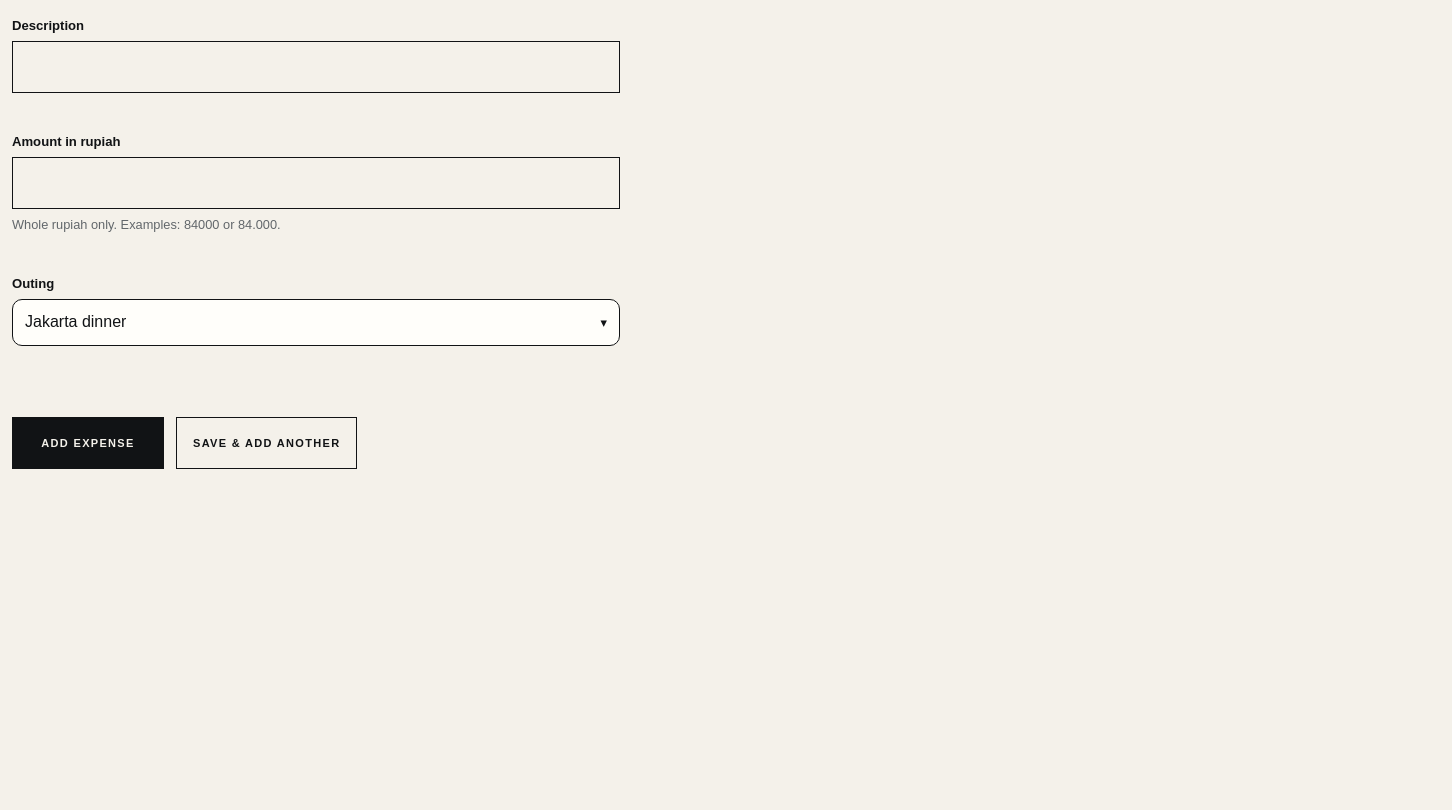
ExpenseForm › clears fields, keeps the outing, refreshes, focuses Description, and announces continuation once
The image size is (1452, 810).
Step 1. Type "Dinner" into the field labelled "Description" → [316, 67], box top-left (12, 41), bottom-right (620, 93)
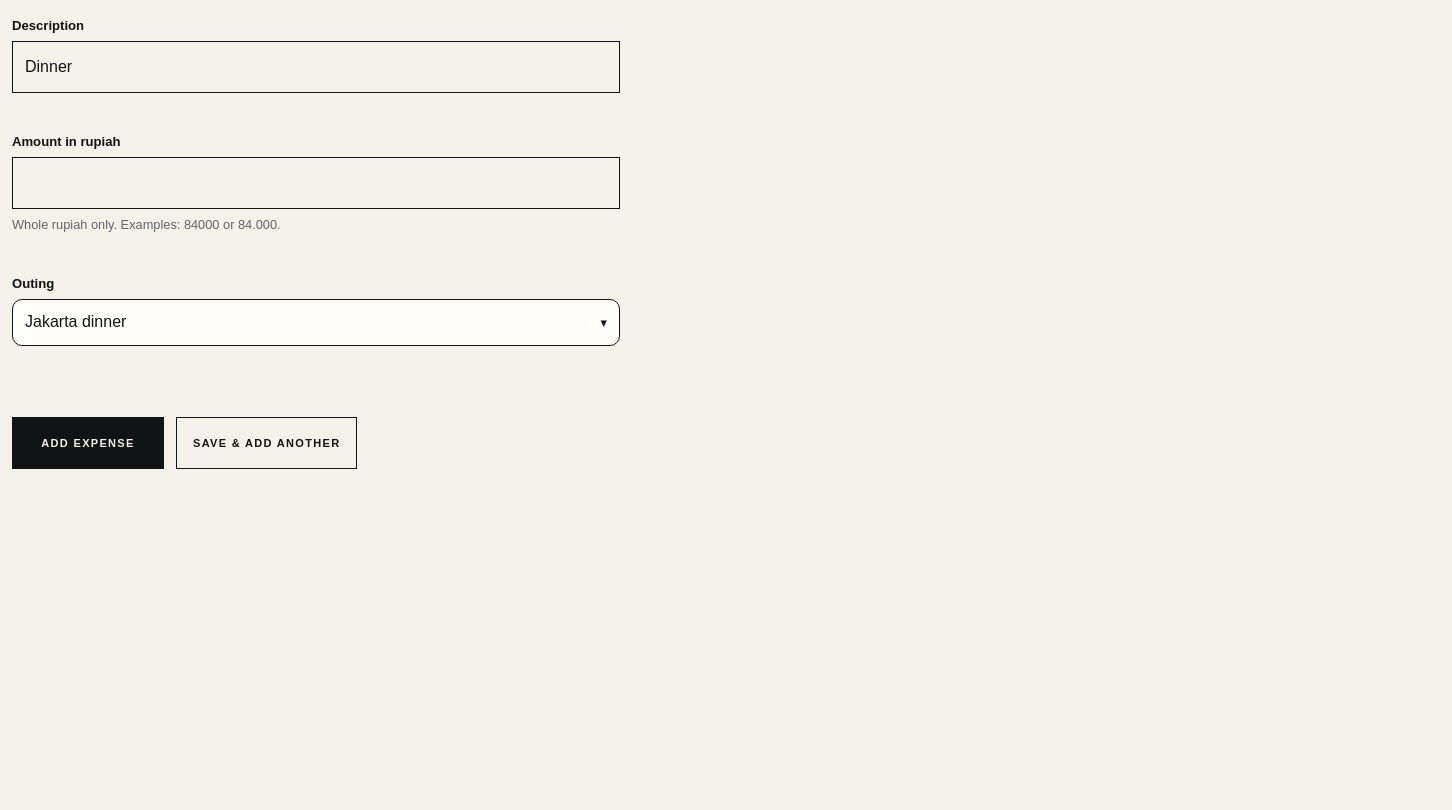
Step 2. Type "84000" into the field labelled "Amount in rupiah" → [316, 183], box top-left (12, 157), bottom-right (620, 209)
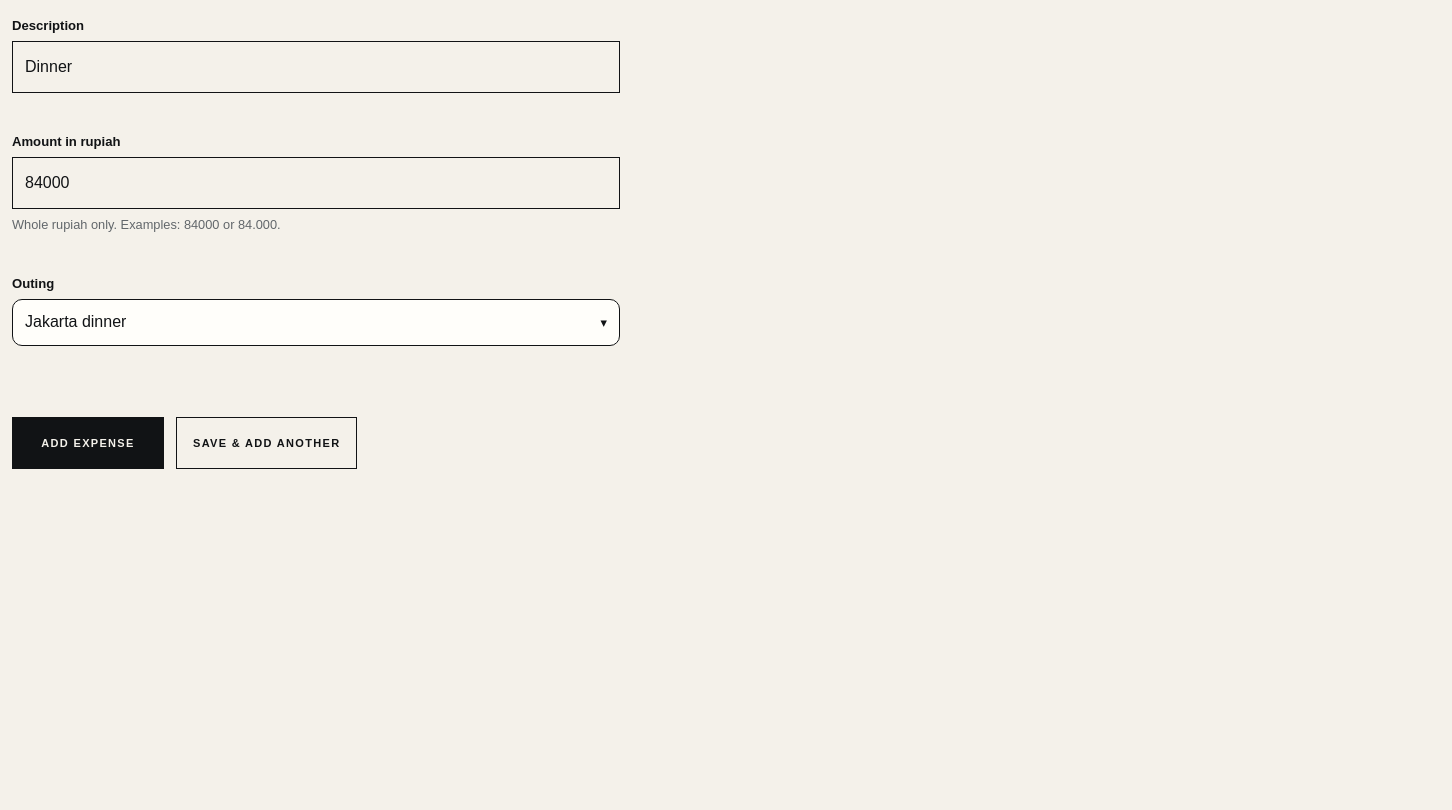
Step 3. Click the button "Save & add another" → [267, 443], box top-left (176, 417), bottom-right (357, 469)
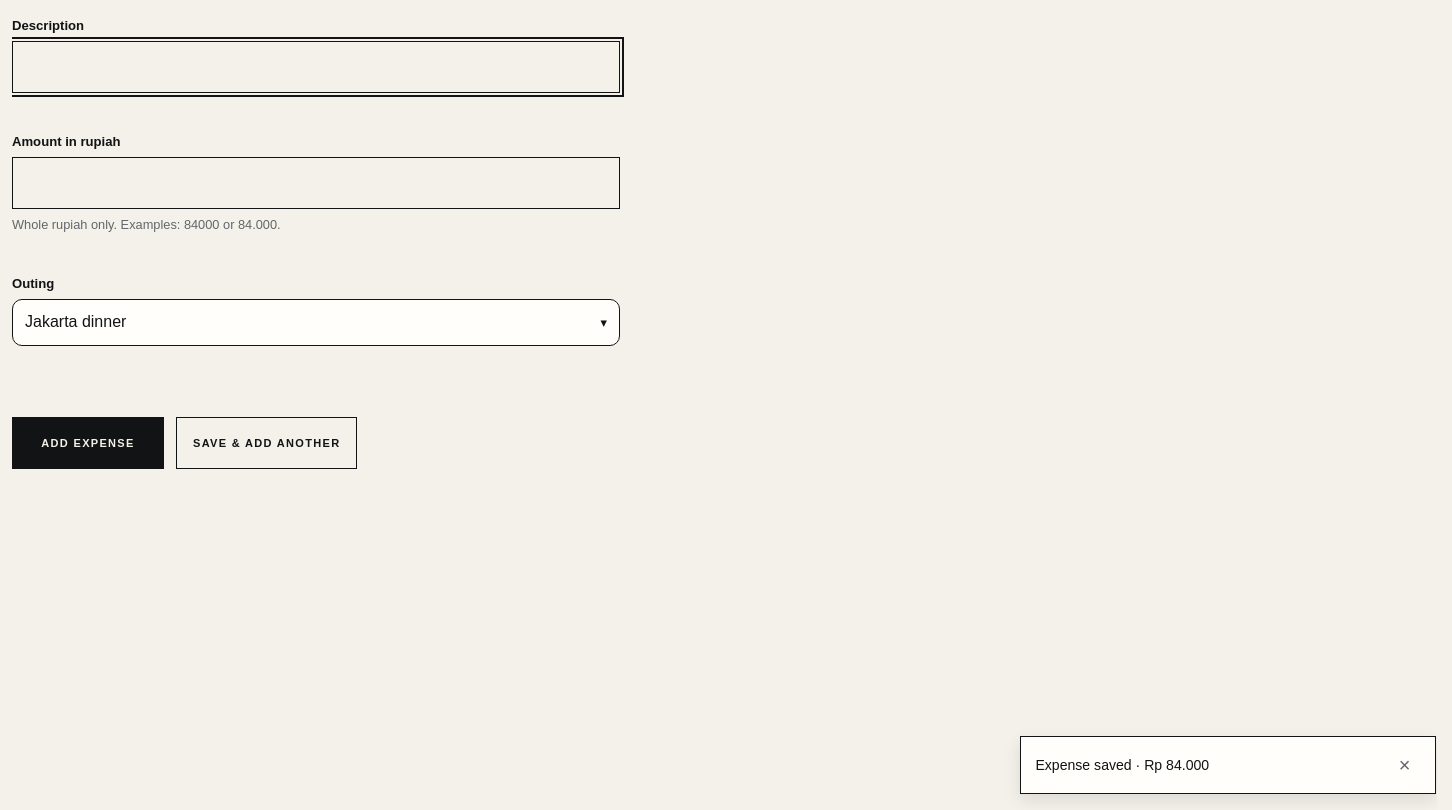
Check: the field labelled "Description" is empty, box top-left (12, 41), bottom-right (620, 93)
Check: the field labelled "Amount in rupiah" is empty, box top-left (12, 157), bottom-right (620, 209)
Check: the message shows "Expense saved · Rp 84.000", box top-left (1035, 756), bottom-right (1209, 772)
